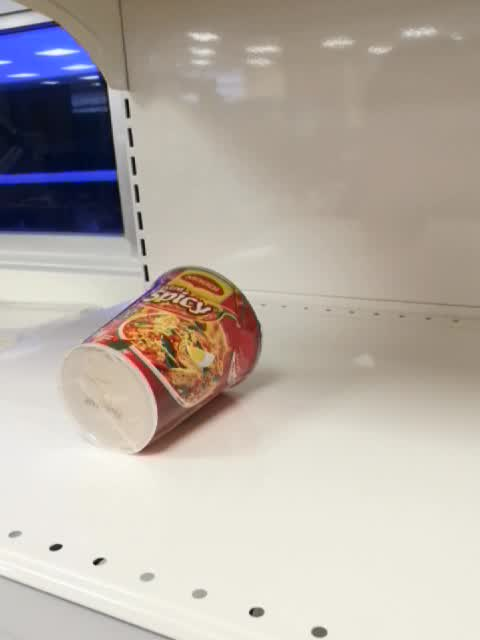maggi: (59, 265, 264, 456)
